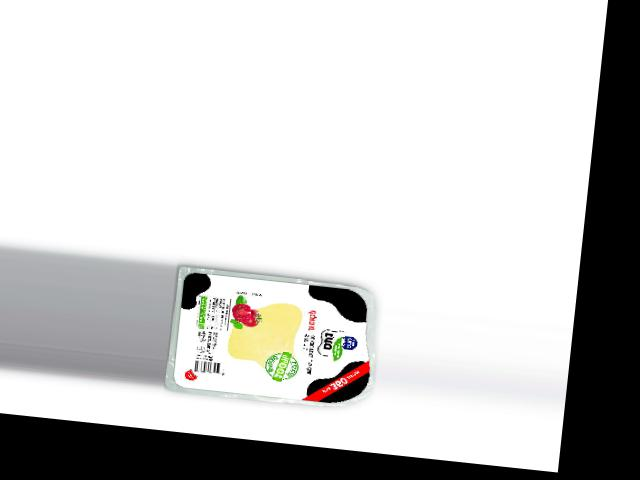cheese: (164, 265, 385, 412)
